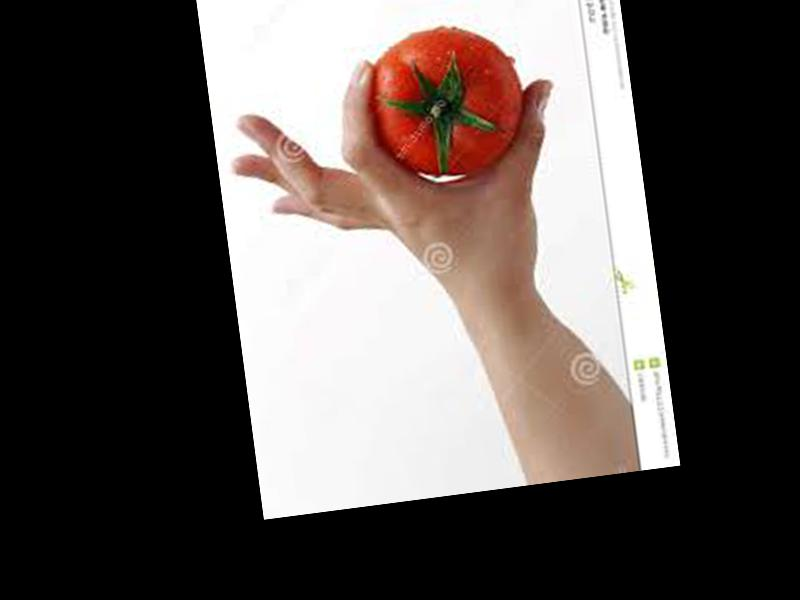Tomato: (360, 17, 531, 186)
